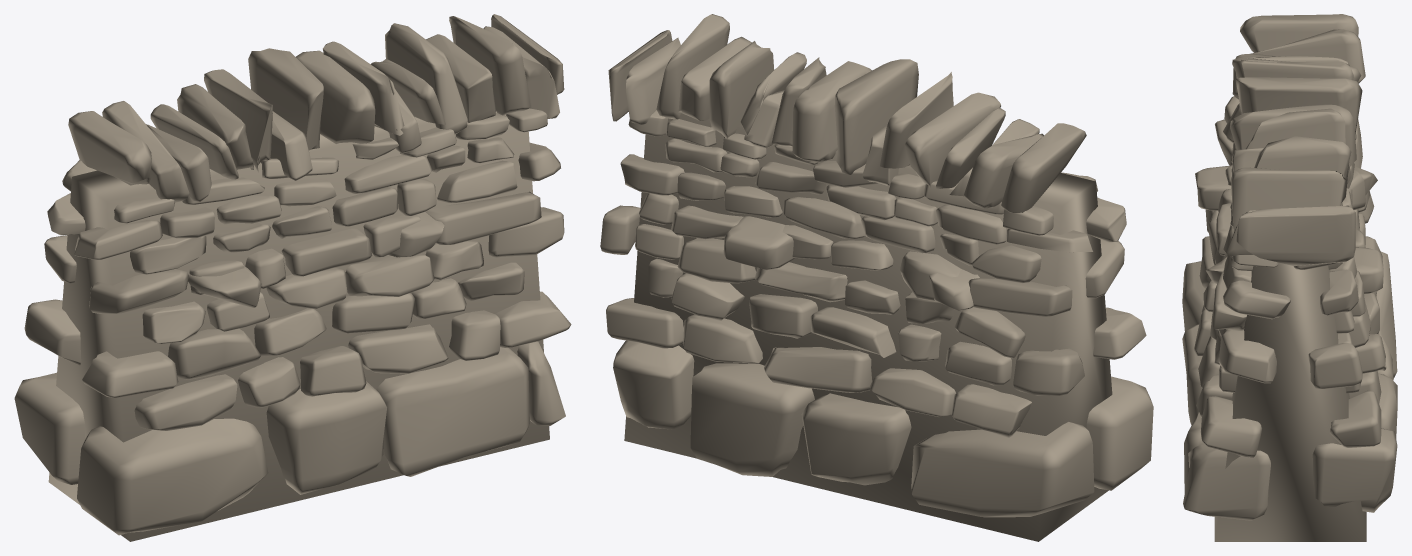
File: boundary.dry_stone.wall_e.glb
3 renders of one model, left to right at view 1: azimuth 30°, elevation 25°; view 2: azimuth 150°, elevation 25°; view 3: azimuth 270°, elevation 25°, orthographic. The views are drawn at different scales.
Parts seen in each view (by area): view 1: main__stone_a98; view 2: main__stone_a98; view 3: main__stone_a98.
Boxes of the visible parts, x1,y1,x2,y2 form: main__stone_a98: (14, 14, 571, 541); main__stone_a98: (600, 14, 1153, 541); main__stone_a98: (1182, 14, 1397, 541).
Size of the model in its own units: 2.24 by 1.75 by 0.9358.
